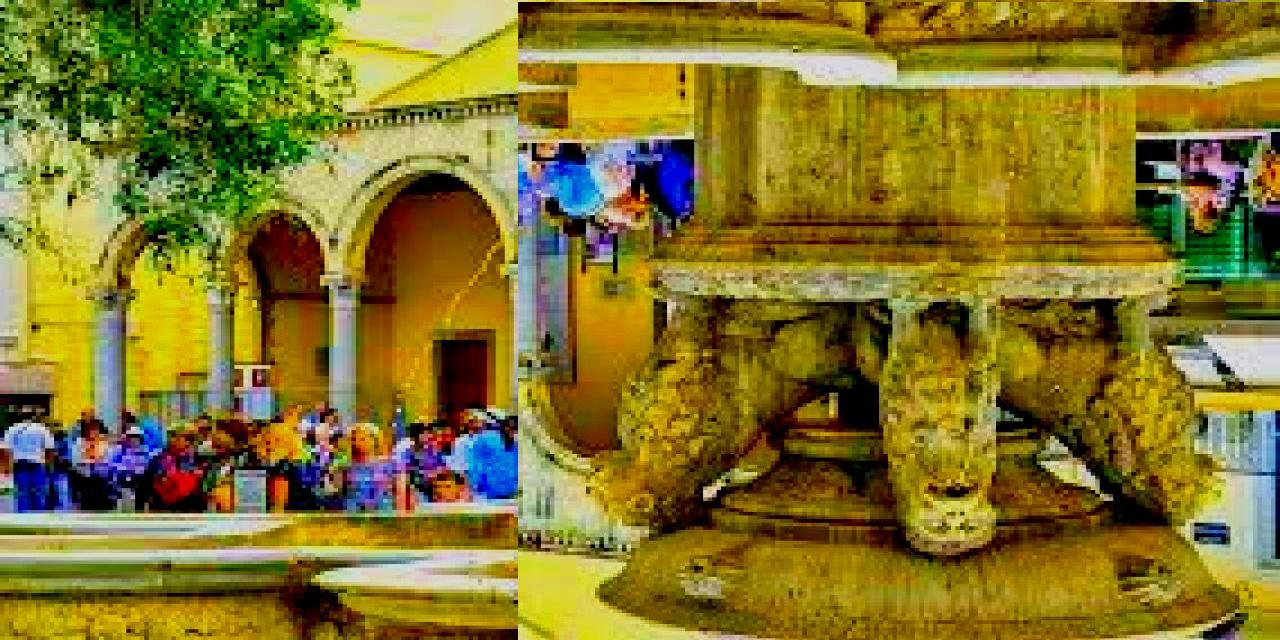Liontaria: (519, 3, 1280, 640)
